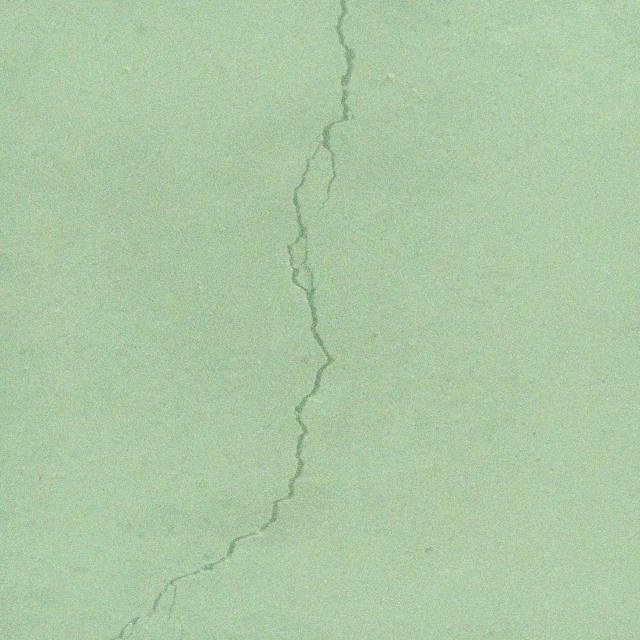crack: (110, 0, 362, 640), (50, 592, 106, 640), (178, 607, 184, 640)
